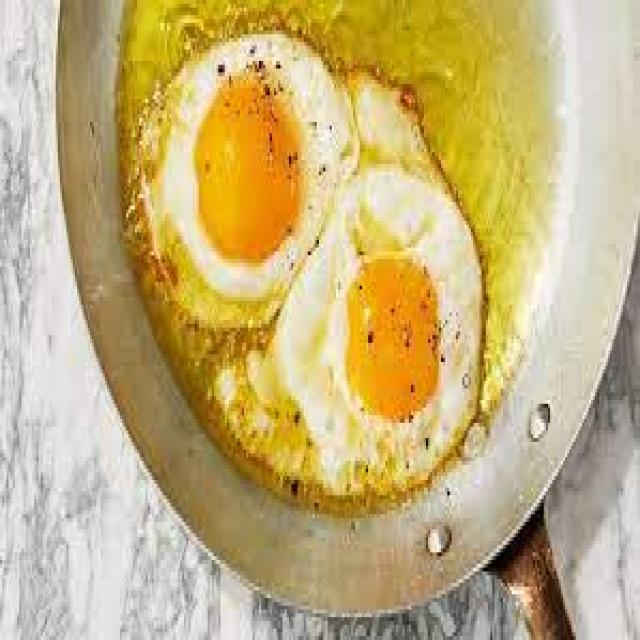Egg: (273, 162, 481, 495)
